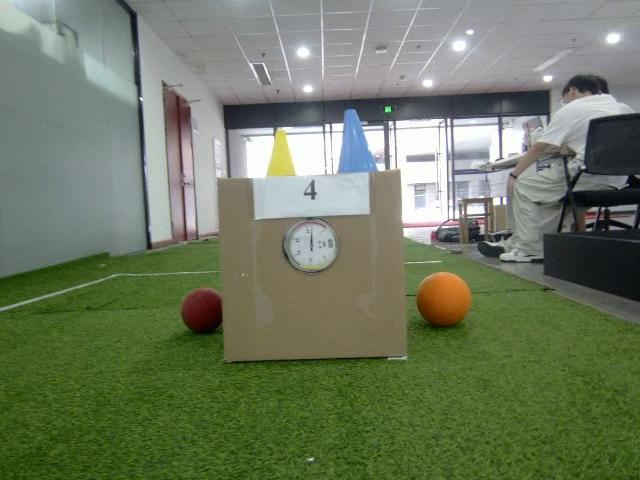4: (301, 179, 322, 201)
Dashboard: (282, 217, 341, 275)
blue_barrel: (334, 108, 380, 175)
orange_ball: (416, 272, 472, 329)
red_ball: (180, 288, 223, 334)
ssi: (326, 238, 334, 250)
yellow_barrel: (266, 128, 300, 177)
